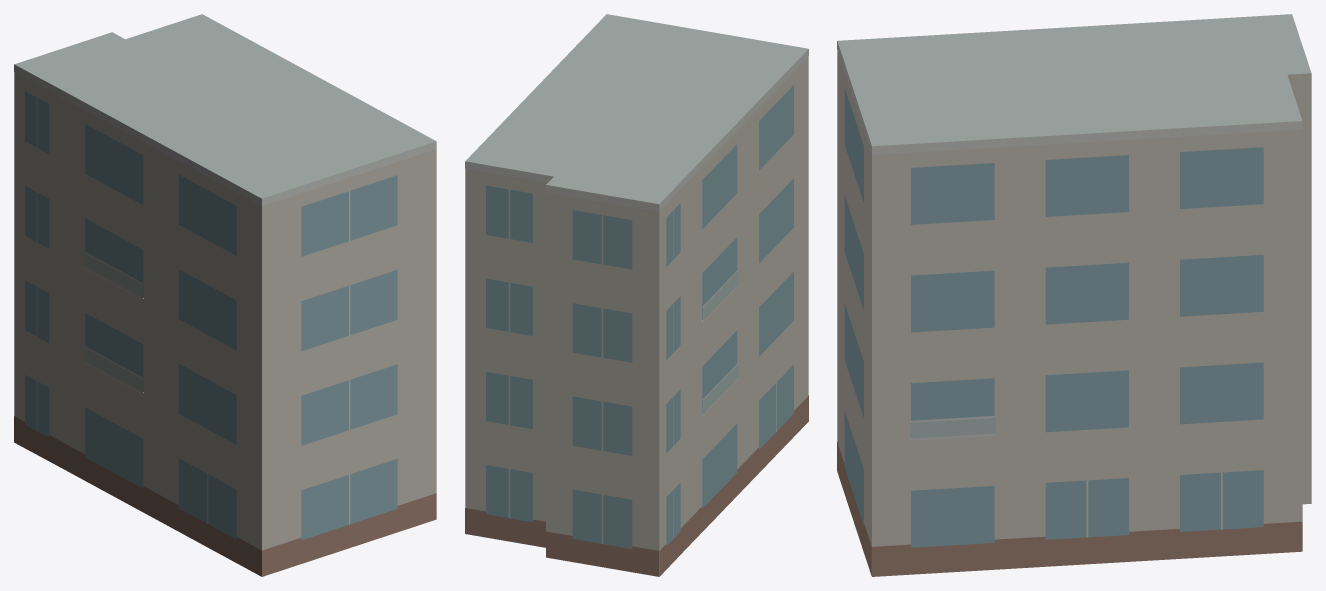
Rendered from residential-4ea89436-fd70-4e40-a28f-5a3e4b74f470.glb.
3 renders of one model, left to right at view 1: azimuth 30°, elevation 25°; view 2: azimuth 150°, elevation 25°; view 3: azimuth 270°, elevation 25°, orthographic. The views are drawn at different scales.
Visible parts, largest first — view 1: residential-4ea89436-fd70-4e40-a28f-5a3e4b74f470.tmp; view 2: residential-4ea89436-fd70-4e40-a28f-5a3e4b74f470.tmp; view 3: residential-4ea89436-fd70-4e40-a28f-5a3e4b74f470.tmp.
Part boxes in pixels (<box>): residential-4ea89436-fd70-4e40-a28f-5a3e4b74f470.tmp: <box>14,14,436,576</box>; residential-4ea89436-fd70-4e40-a28f-5a3e4b74f470.tmp: <box>465,14,808,576</box>; residential-4ea89436-fd70-4e40-a28f-5a3e4b74f470.tmp: <box>837,14,1311,576</box>.
Size of the model in its own units: 8.05 by 12.2 by 12.19.
